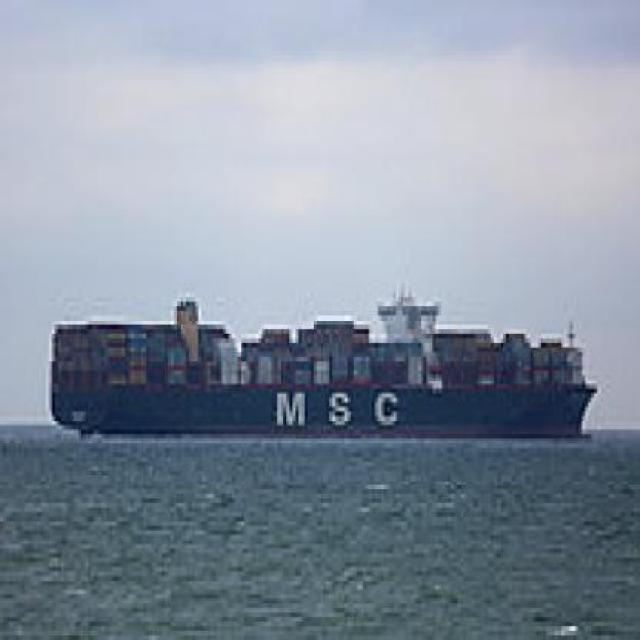container: (40, 284, 602, 444)
